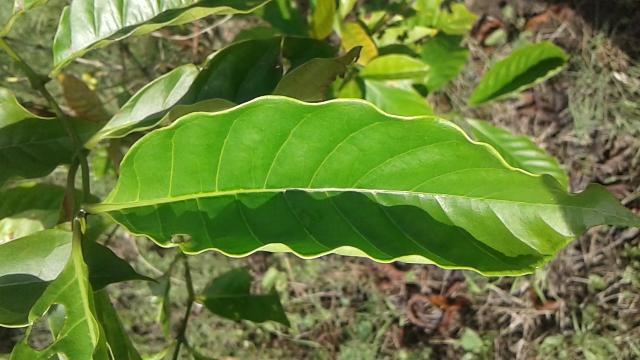healthy: (106, 100, 636, 275)
